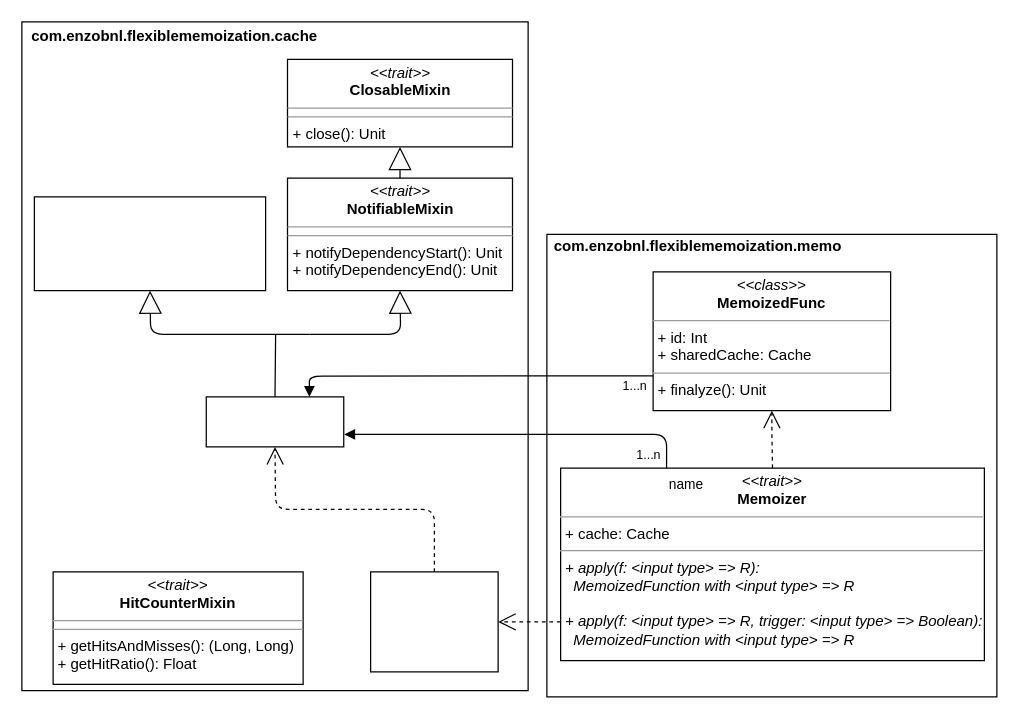
Image size: 1019x719. Some labels were removed from this diagram. The box of each missing label's shape, as (x1, y1, x2, y2) in pixels:
<<trait>> Cache: (205, 396, 344, 447)
<<trait>> CacheBuilder + build(): Cache: (369, 571, 498, 672)
<<trait>> Gettable + getOrElseUpdate(Int, Any): Any: (33, 196, 266, 291)
